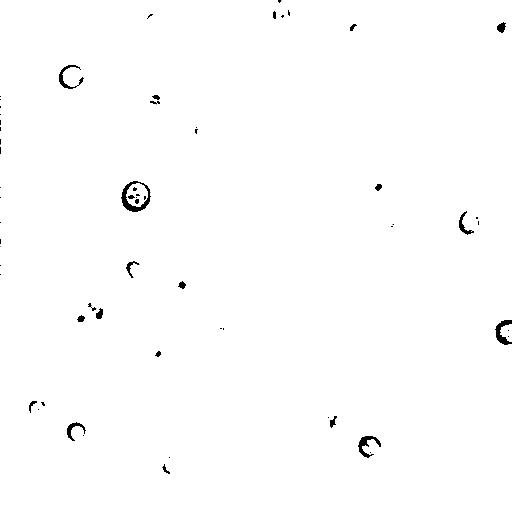micro-algae: (152, 30, 205, 86), (163, 269, 197, 301), (484, 9, 512, 47), (121, 180, 151, 213), (141, 340, 171, 372), (68, 305, 96, 335), (57, 64, 85, 91), (456, 209, 481, 236), (357, 434, 383, 459), (269, 3, 293, 30), (385, 217, 408, 243), (187, 121, 211, 145), (369, 177, 393, 201), (65, 421, 88, 443), (411, 214, 433, 237), (161, 453, 183, 475), (265, 0, 297, 15), (495, 319, 512, 345), (0, 122, 15, 150), (348, 18, 365, 42), (331, 411, 350, 432), (127, 262, 145, 283), (214, 0, 238, 14), (87, 301, 104, 319), (29, 399, 45, 417), (146, 11, 159, 29)
